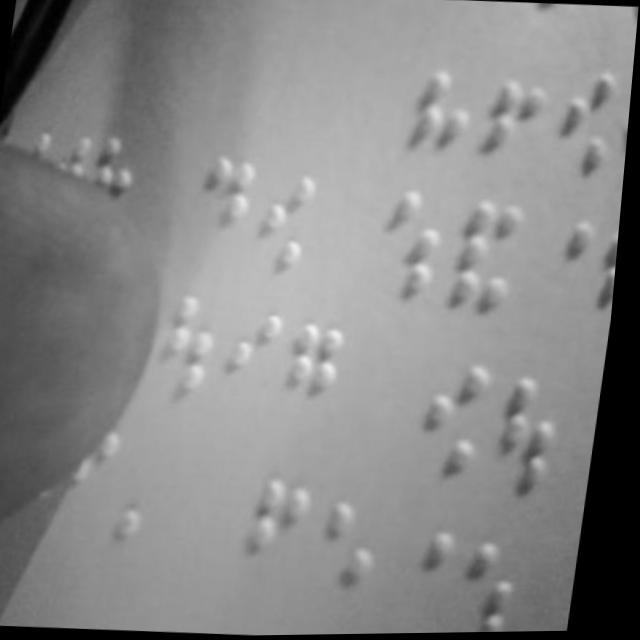braiile: (246, 474, 327, 606), (325, 498, 401, 633), (490, 376, 572, 499), (423, 355, 502, 481), (277, 316, 356, 442), (451, 195, 531, 318), (215, 308, 292, 434), (544, 65, 622, 181), (382, 182, 455, 304), (190, 150, 262, 272), (255, 162, 327, 279), (158, 289, 228, 409), (529, 211, 599, 330), (399, 520, 471, 635), (460, 535, 537, 634), (583, 226, 624, 345), (605, 86, 633, 196)
